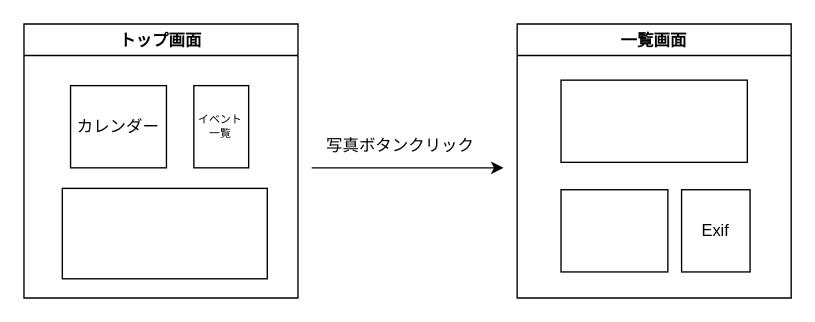
Some shapes in this 815 by 322 pixel diagram are drawn without their labels. Each missing label, with the centre of its shape:
"写真一覧" goes at point 653,120.
"地図" goes at point 164,233.
"拡大写真" goes at point 614,230.
